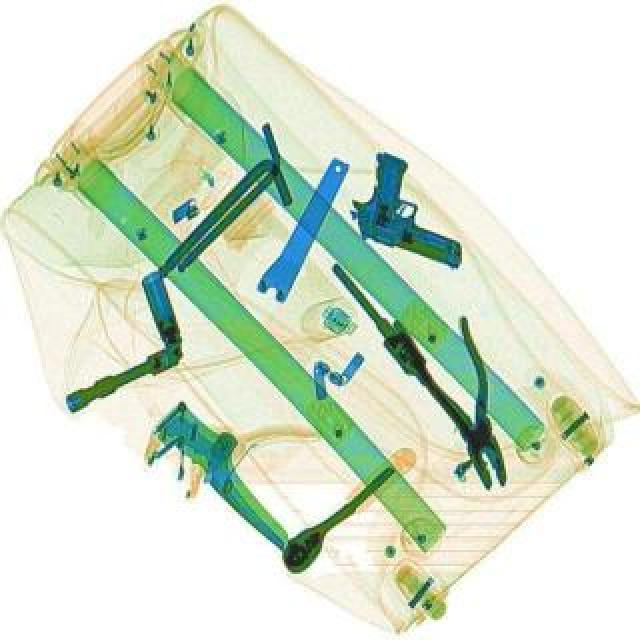gun: (336, 146, 492, 270)
wrench: (390, 296, 526, 494)
